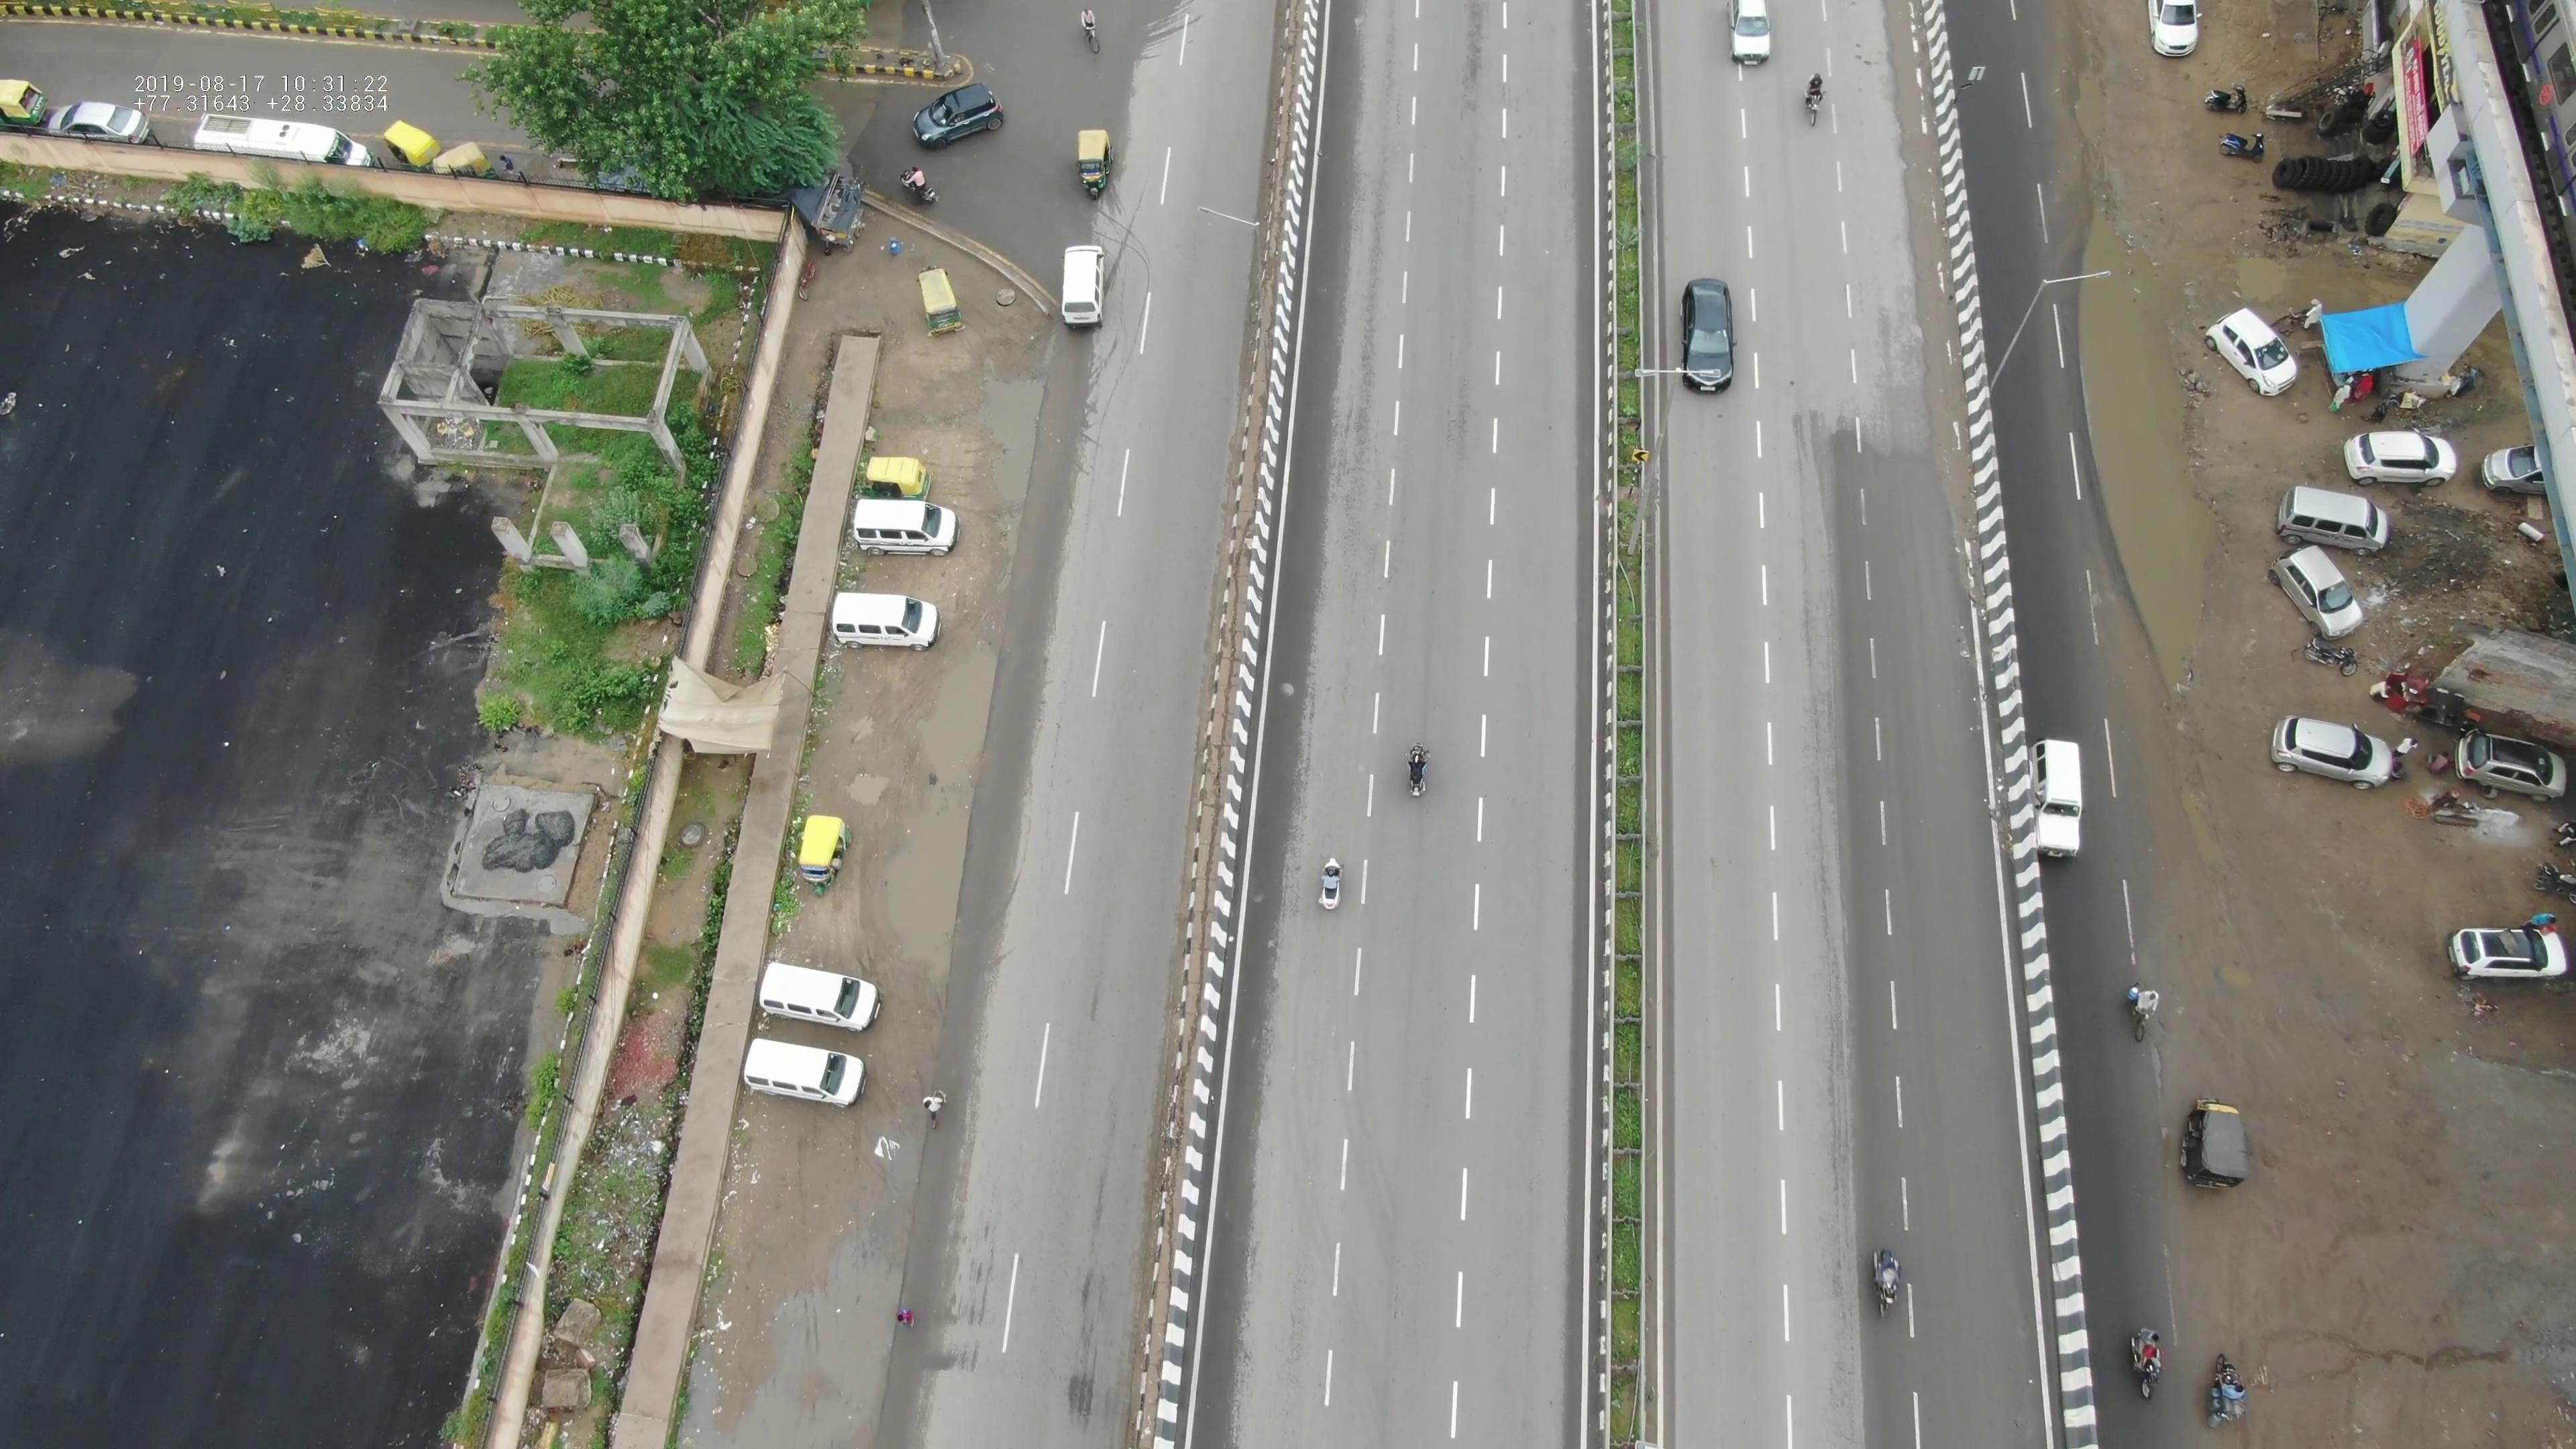Waterlogging: (2068, 188, 2217, 690), (987, 338, 1054, 513)
